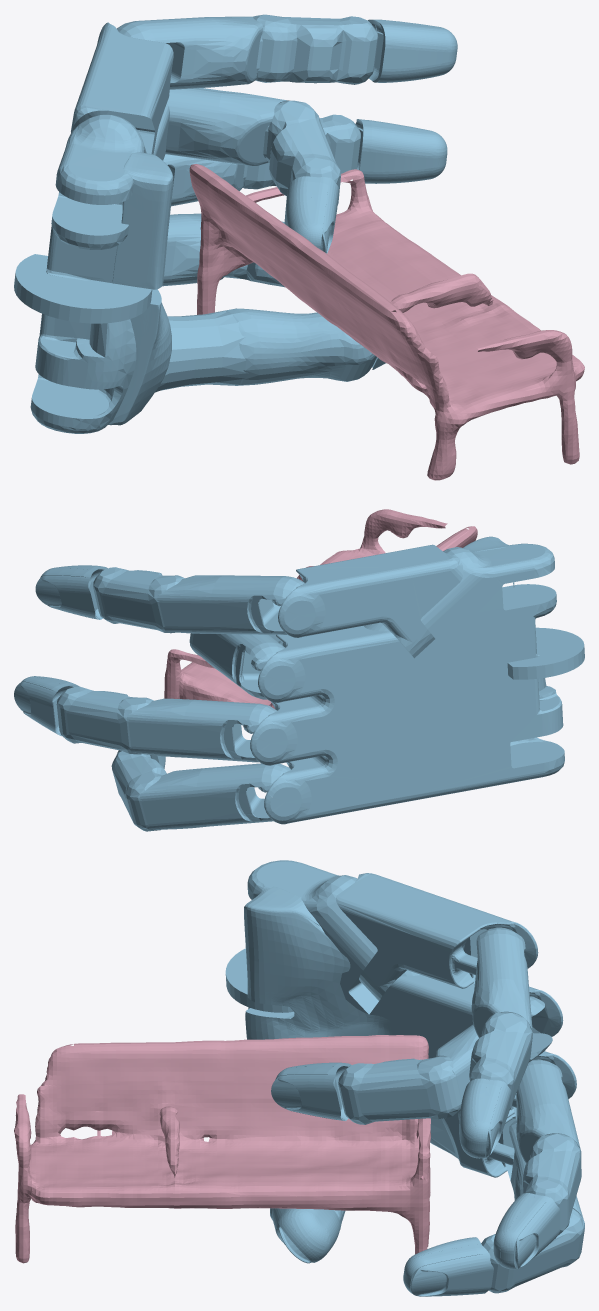
3 views of the same model, one above another, from view 1: azimuth 30°, elevation 25°; view 2: azimuth 150°, elevation 25°; view 3: azimuth 270°, elevation 25° (orthographic). The views are drawn at different scales.
Parts seen in each view (by area): view 1: hand_isaac_q, world; view 2: hand_isaac_q, world; view 3: hand_isaac_q, world.
Part boxes in pixels (<box>): hand_isaac_q: <box>14,14,457,433</box>; world: <box>189,164,584,480</box>; hand_isaac_q: <box>14,536,584,831</box>; world: <box>164,509,477,708</box>; hand_isaac_q: <box>225,860,584,1296</box>; world: <box>14,1035,430,1263</box>.
Size of the model in its own units: 0.1794 by 0.0979 by 0.1796.
